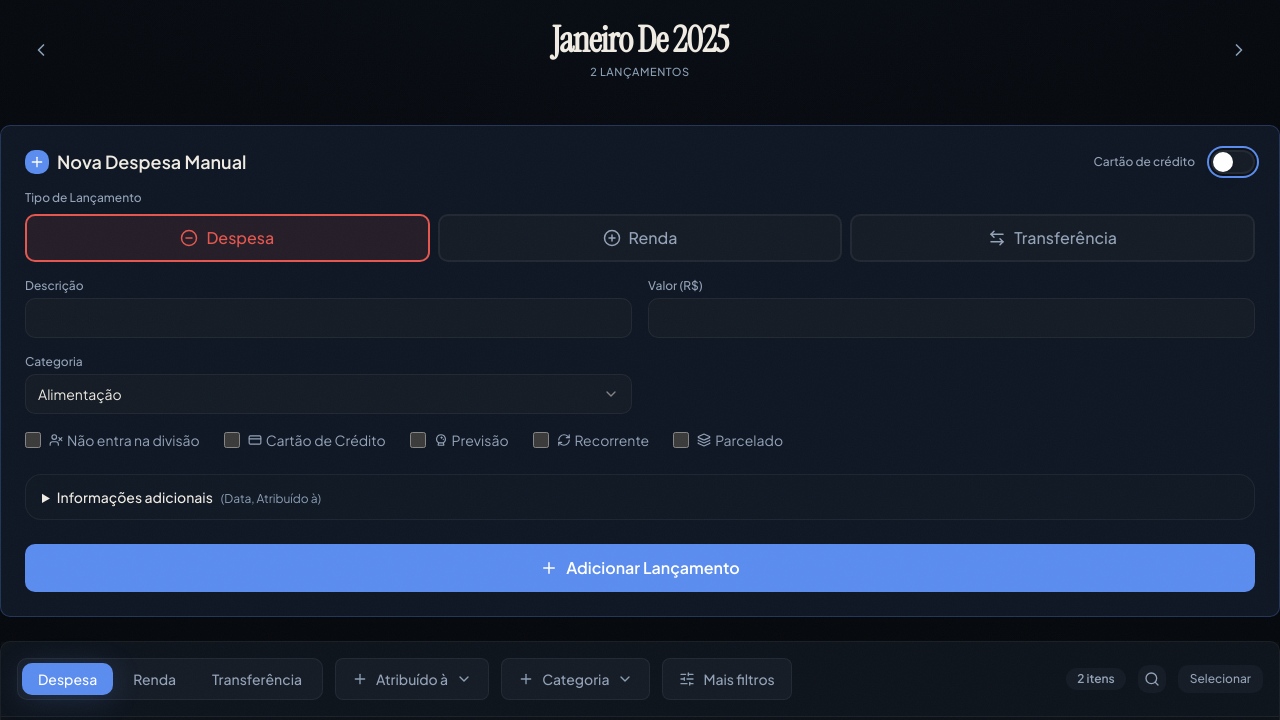
Test: TransactionsView › Filters and search › opening Mais filtros shows FILTROS AVANÇADOS with Cartão, Ocultar gastos, Recorrente, Fora do padrão and Limpar/Aplicar
Click the button with aria-label "Filtrar lançamentos".
click(727, 679)  # box [662,658,792,700]
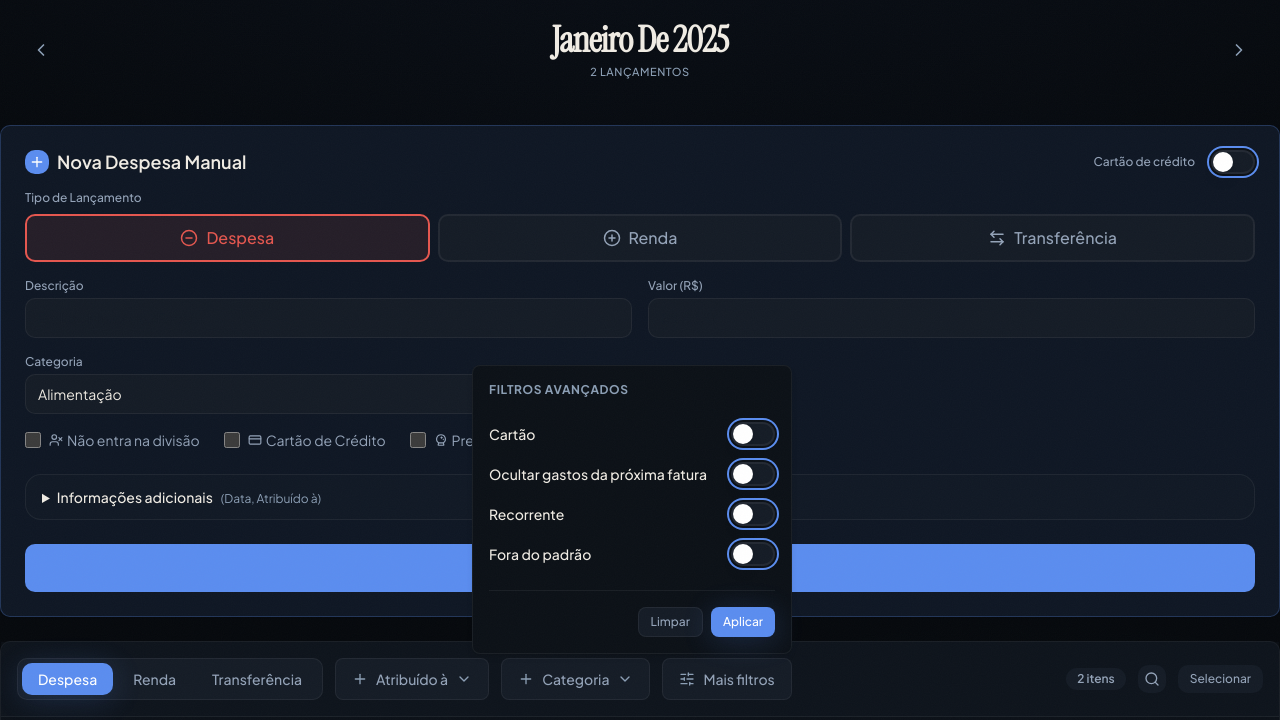
Result: the text "FILTROS AVANÇADOS" is shown at [489,382,628,397]
Result: the text "Cartão" is shown at [489,424,536,444]
Result: the text "Ocultar gastos da próxima fatura" is shown at [489,464,707,484]
